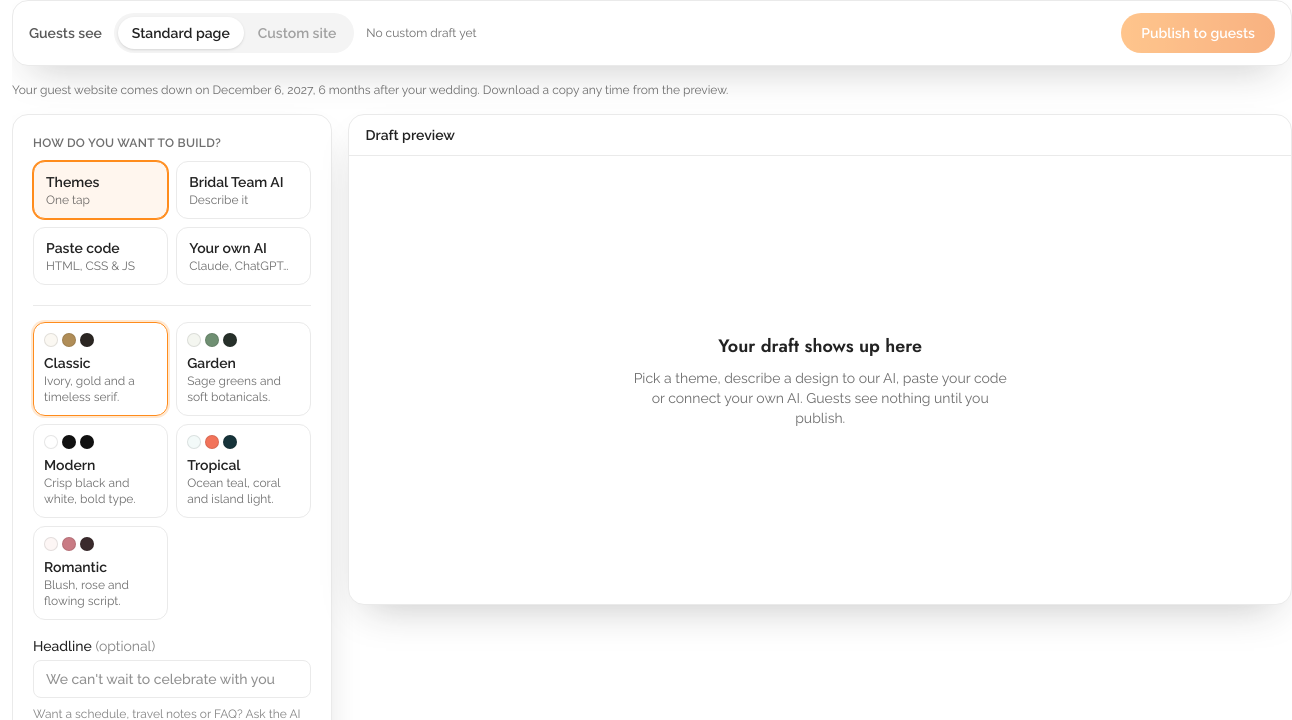
Test case: SiteBuilder › adds a suggestion to the AI brief
Click the tab "Bridal Team AI Describe it" at (244, 190), box [176, 161, 311, 219]
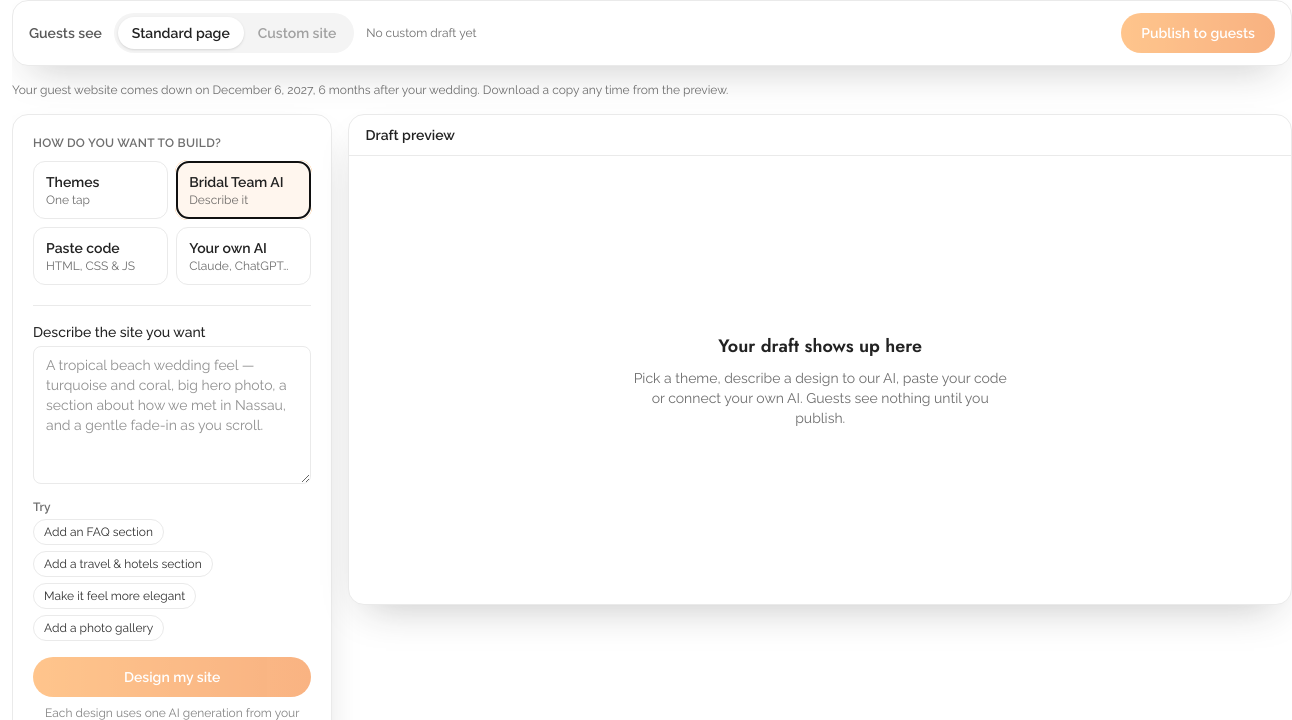
Type "Sage and cream" into the text box labelled "Describe the site you want" at (172, 415), box [33, 346, 311, 484]
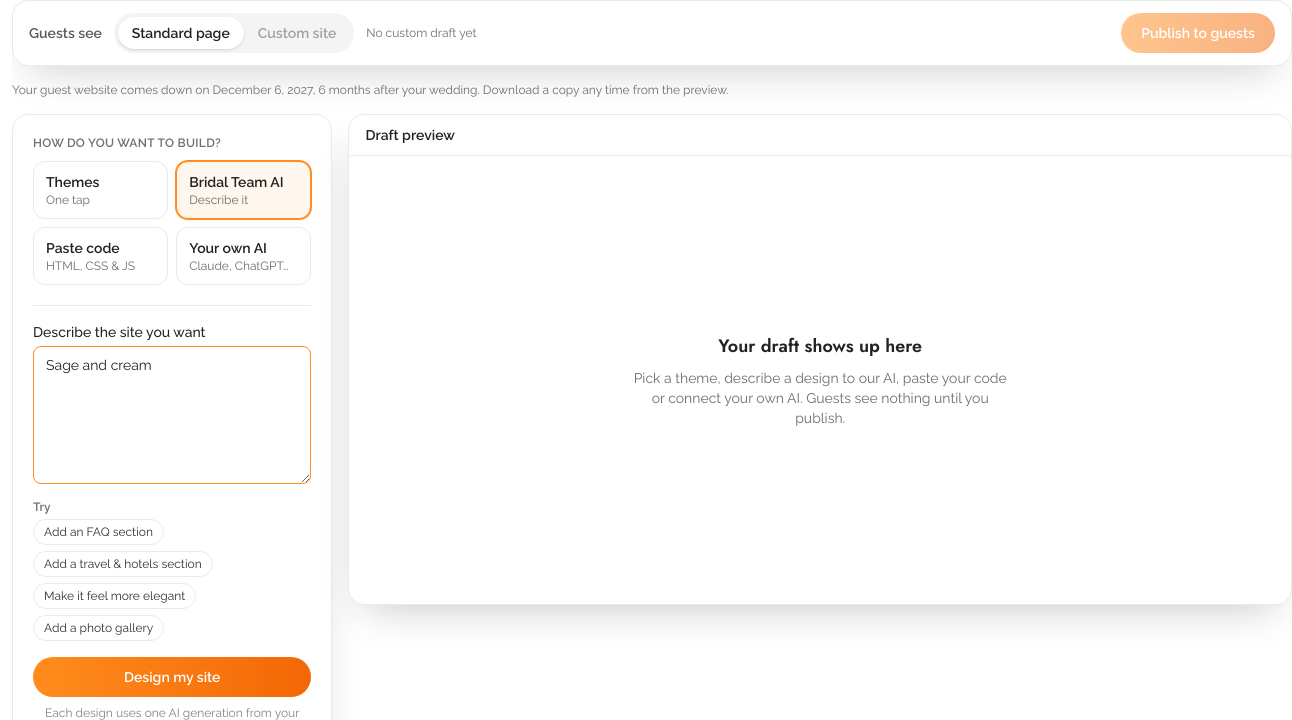
Click the button "Add an FAQ section" at (98, 532), box [33, 519, 164, 545]
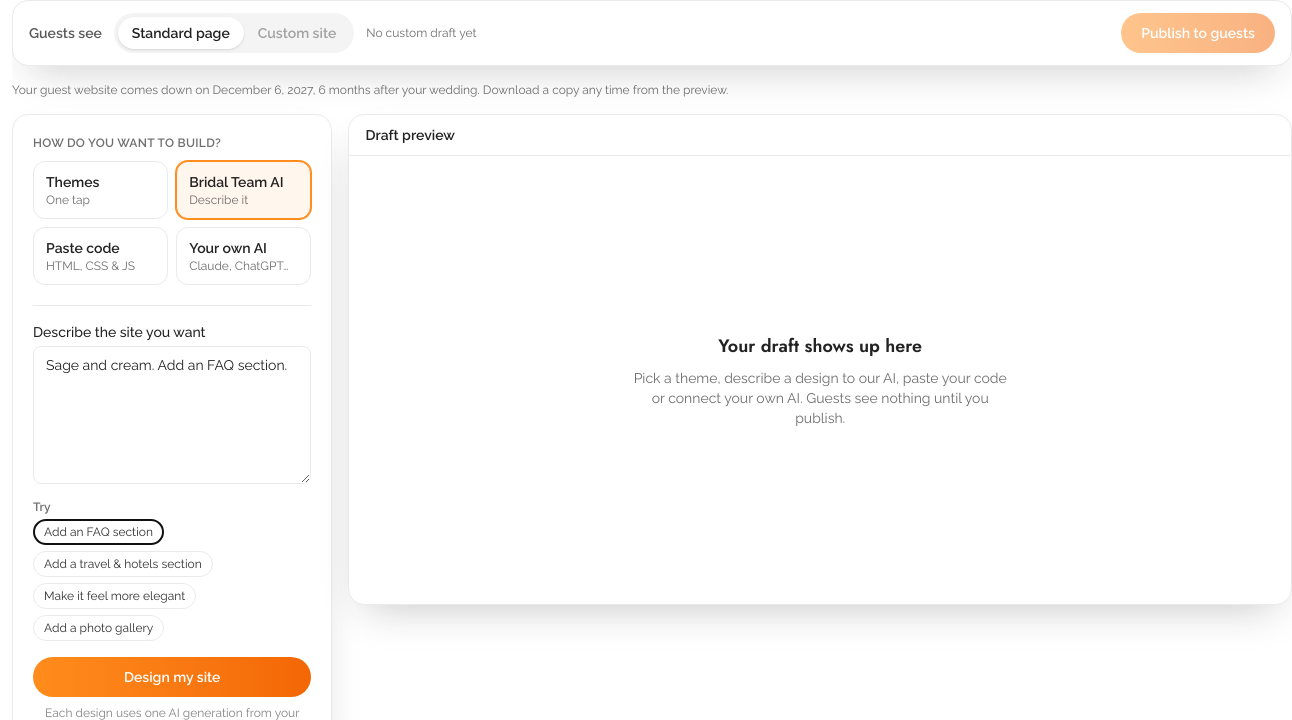
Expected: the text box labelled "Describe the site you want" holds "Sage and cream. Add an FAQ section.", [33, 346, 311, 484]
